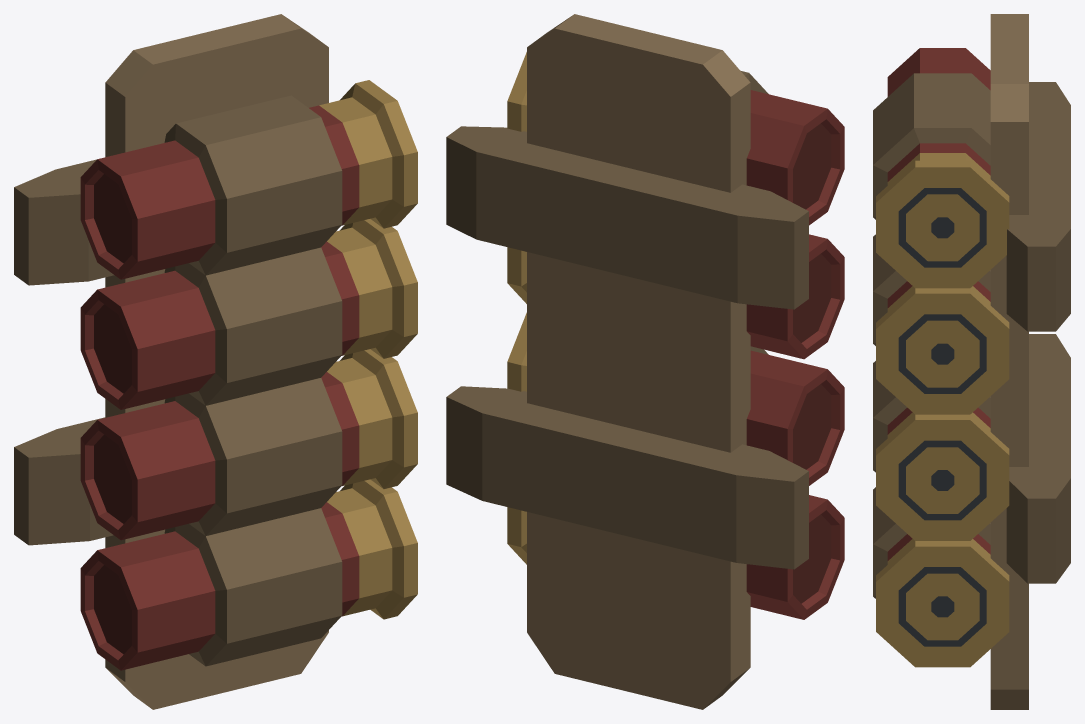
File: SM_Chr_Attach_ShellStrip_Shotgun_01.fbx
3 renders of one model, left to right at view 1: azimuth 30°, elevation 25°; view 2: azimuth 150°, elevation 25°; view 3: azimuth 270°, elevation 25°, orthographic. The views are drawn at different scales.
Visible parts, largest first — view 1: SM_Chr_Attach_ShellStrip_Shotgun_01; view 2: SM_Chr_Attach_ShellStrip_Shotgun_01; view 3: SM_Chr_Attach_ShellStrip_Shotgun_01.
Part boxes in pixels (bbox=[...]): SM_Chr_Attach_ShellStrip_Shotgun_01: bbox=[14, 14, 417, 709]; SM_Chr_Attach_ShellStrip_Shotgun_01: bbox=[446, 14, 844, 709]; SM_Chr_Attach_ShellStrip_Shotgun_01: bbox=[873, 14, 1070, 709].
Size of the model in its own units: 7.62 by 13.5 by 3.87.
